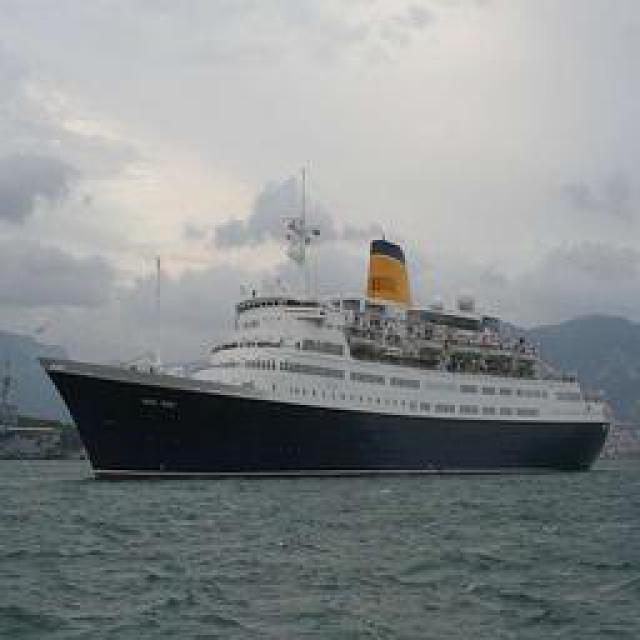Ship: (58, 252, 616, 480)
